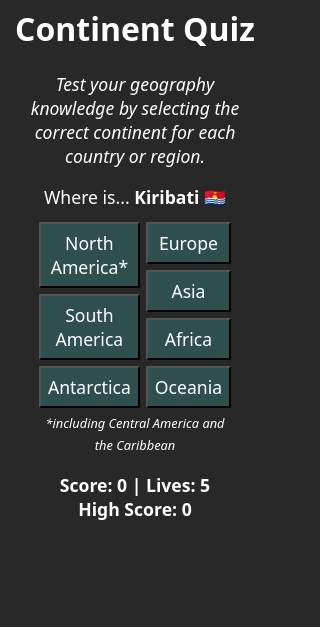
Scenario: App › should end the quiz when the number of lives reaches 0
The image size is (320, 627).
Expected: the text "Where is... Kiribati 🇰🇮" is shown, [44,186,226,210]
Click the button "Africa": (188, 340) [146,318,231,360]
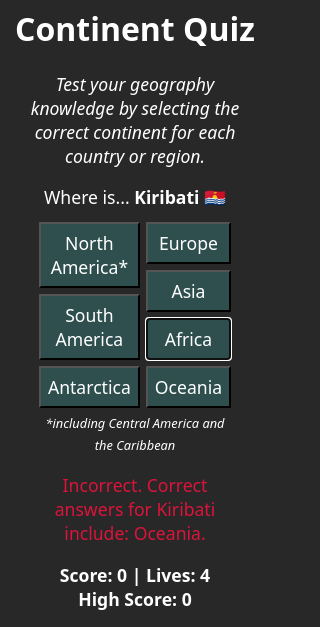
Click the button "Africa": (188, 340) [146,318,231,360]
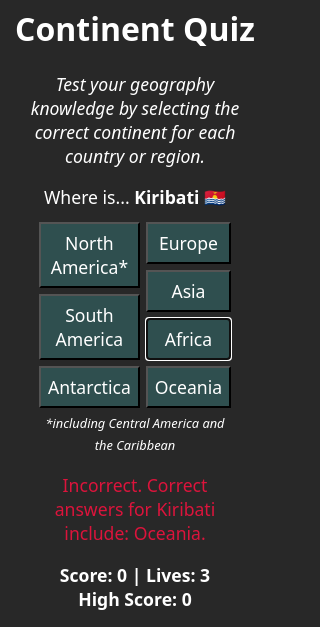
Click the button "Africa": (188, 340) [146,318,231,360]
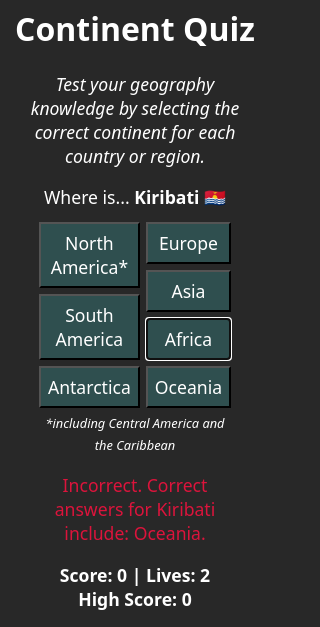
Click the button "Africa": (188, 340) [146,318,231,360]
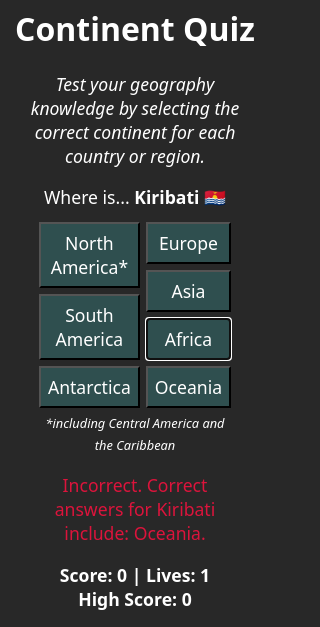
Click the button "Africa": (188, 340) [146,318,231,360]
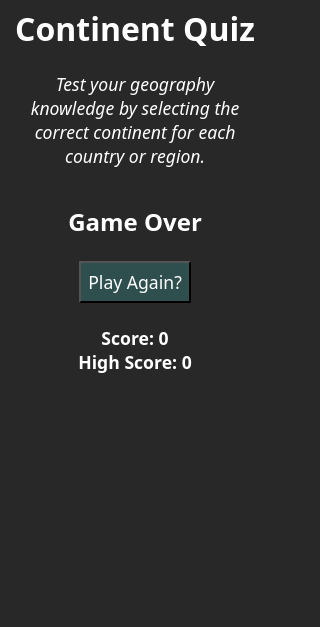
Expected: the text "Where is" is gone
Expected: the heading "Game Over" is shown, [68,205,202,238]
